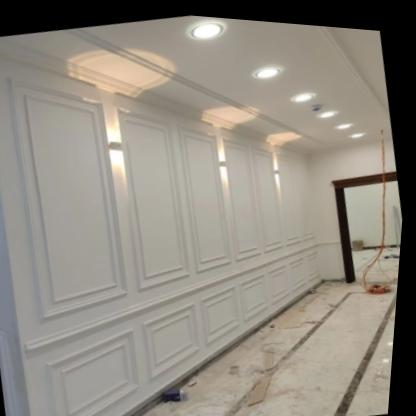Futec frame: (0, 68, 162, 416), (108, 100, 213, 399), (176, 118, 252, 354)
